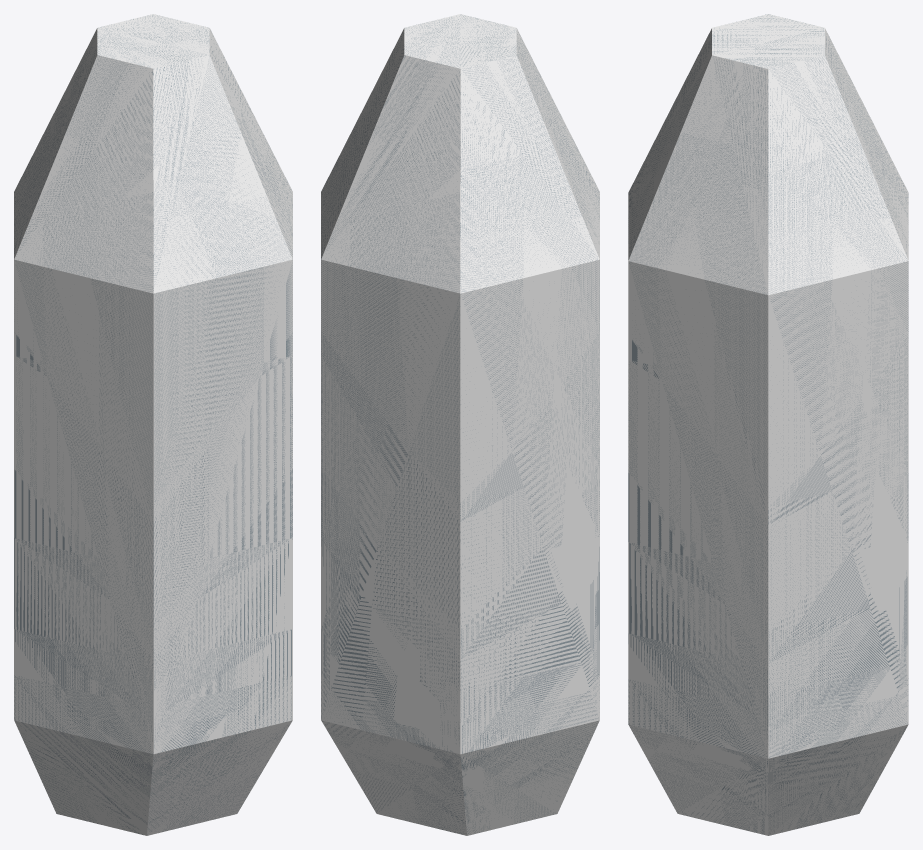
The model's file is TestTube_Solid.obj.
3 views of the same model, side by side, from view 1: azimuth 30°, elevation 25°; view 2: azimuth 150°, elevation 25°; view 3: azimuth 270°, elevation 25° (orthographic).
Parts seen in each view (by area): view 1: Mesh1 Model; view 2: Mesh1 Model; view 3: Mesh1 Model.
Boxes of the visible parts, bbox=[...] form: Mesh1 Model: bbox=[14, 14, 292, 835]; Mesh1 Model: bbox=[321, 14, 599, 835]; Mesh1 Model: bbox=[628, 14, 908, 835].
Bounding box in the file's own units: 0.0317 × 0.0813 × 0.0274.
